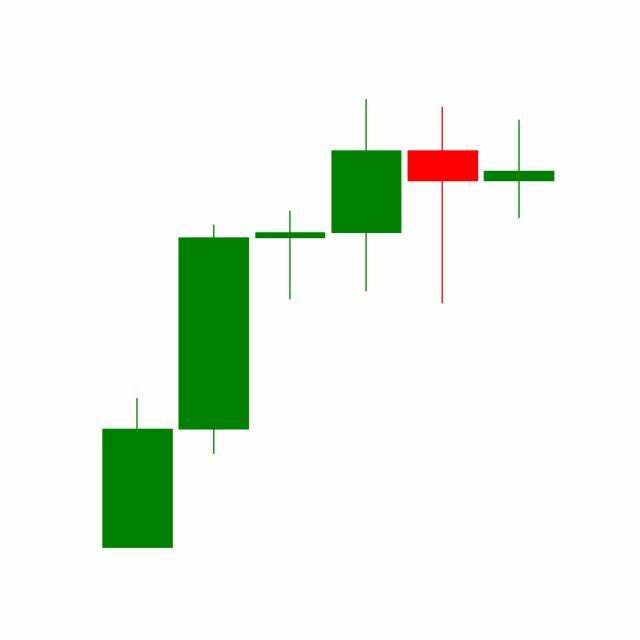Spinning Top: (404, 105, 482, 306)
